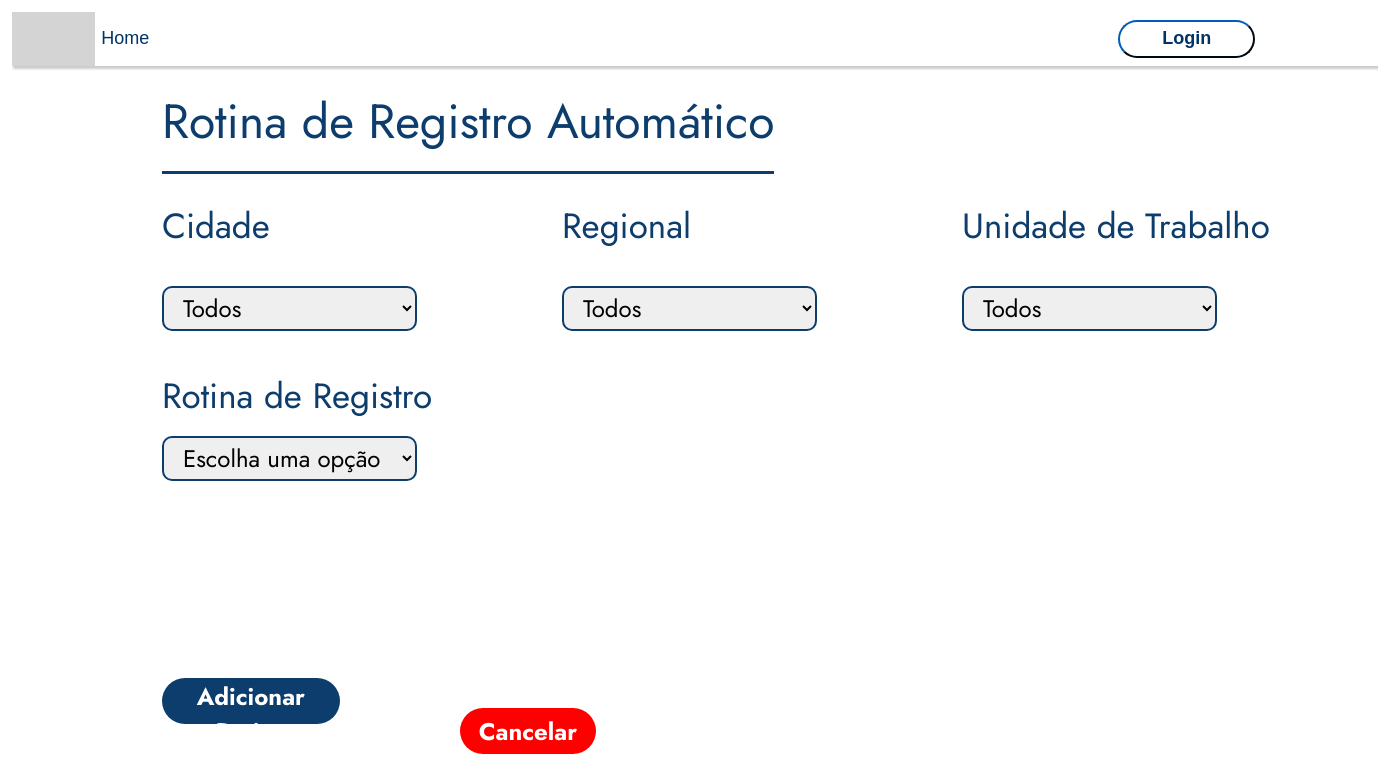
UpdateRoutine › should set an error when day value is invalid
The image size is (1378, 780).
Select "Mensalmente" in the dropdown labelled "Rotina de Registro" at [290, 458], box left=162, top=436, right=417, bottom=481
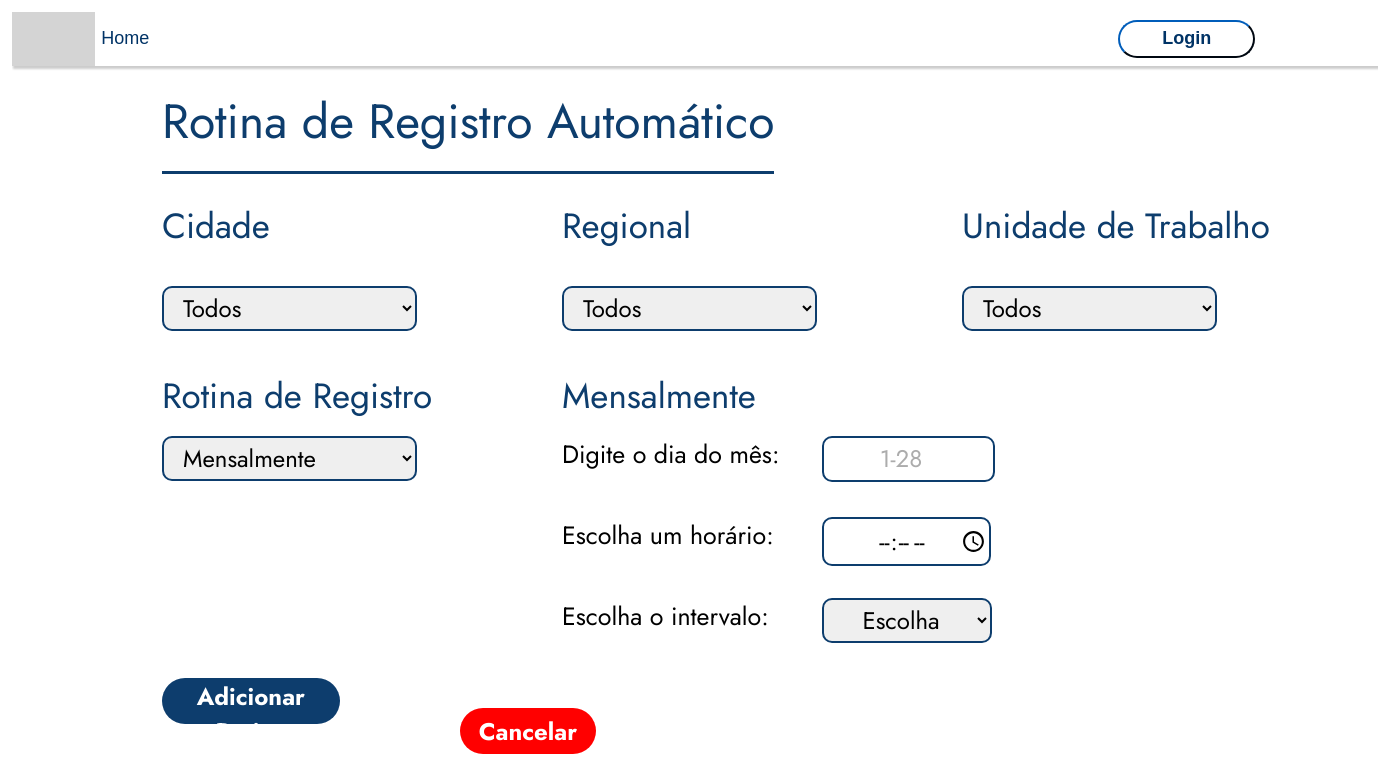
Type "29" into the number field labelled "Digite o dia do mês:" at [908, 459], box left=822, top=436, right=995, bottom=482
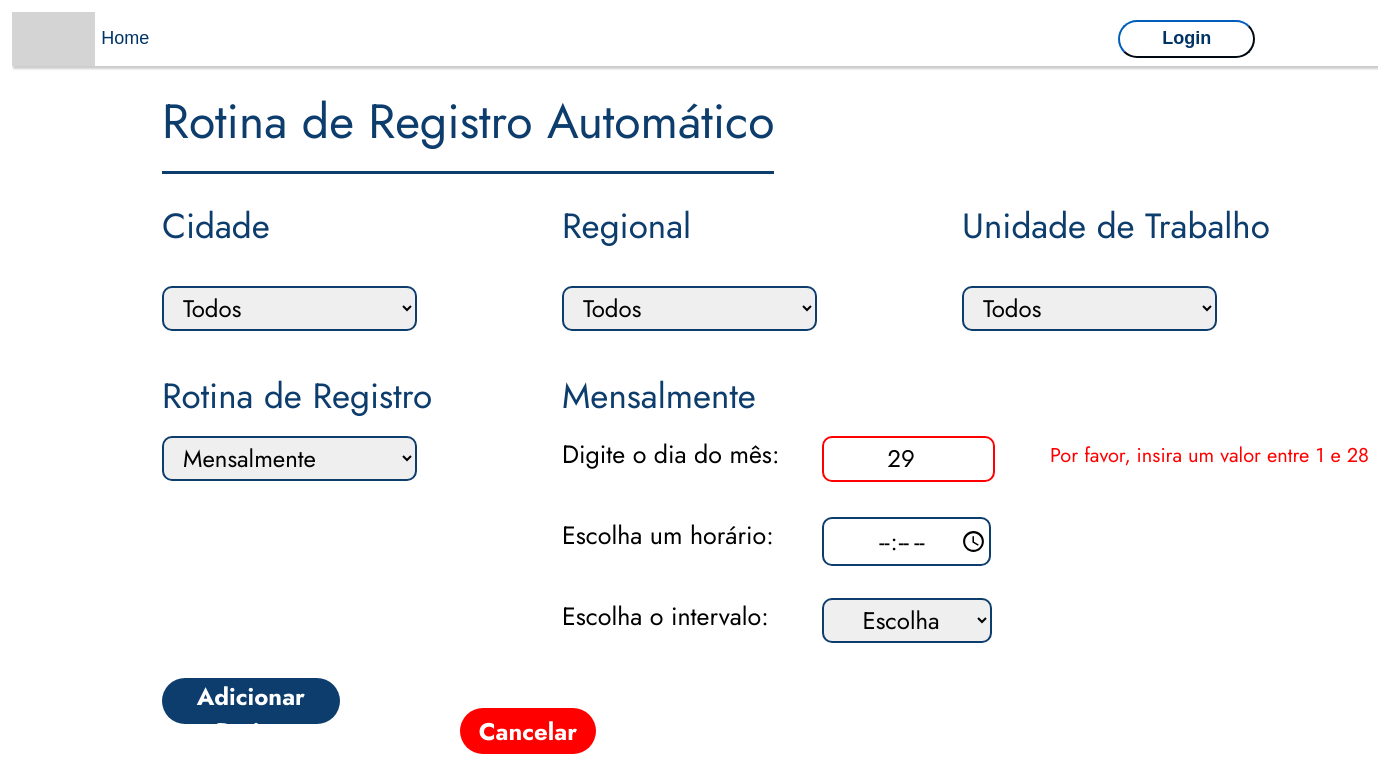
Expected: the text "Por favor, insira um valor entre 1 e 28" is shown, left=1050, top=441, right=1369, bottom=470
Replace the text in the number field labelled "Digite o dia do mês:" with "15" at [908, 459], box left=822, top=436, right=995, bottom=482
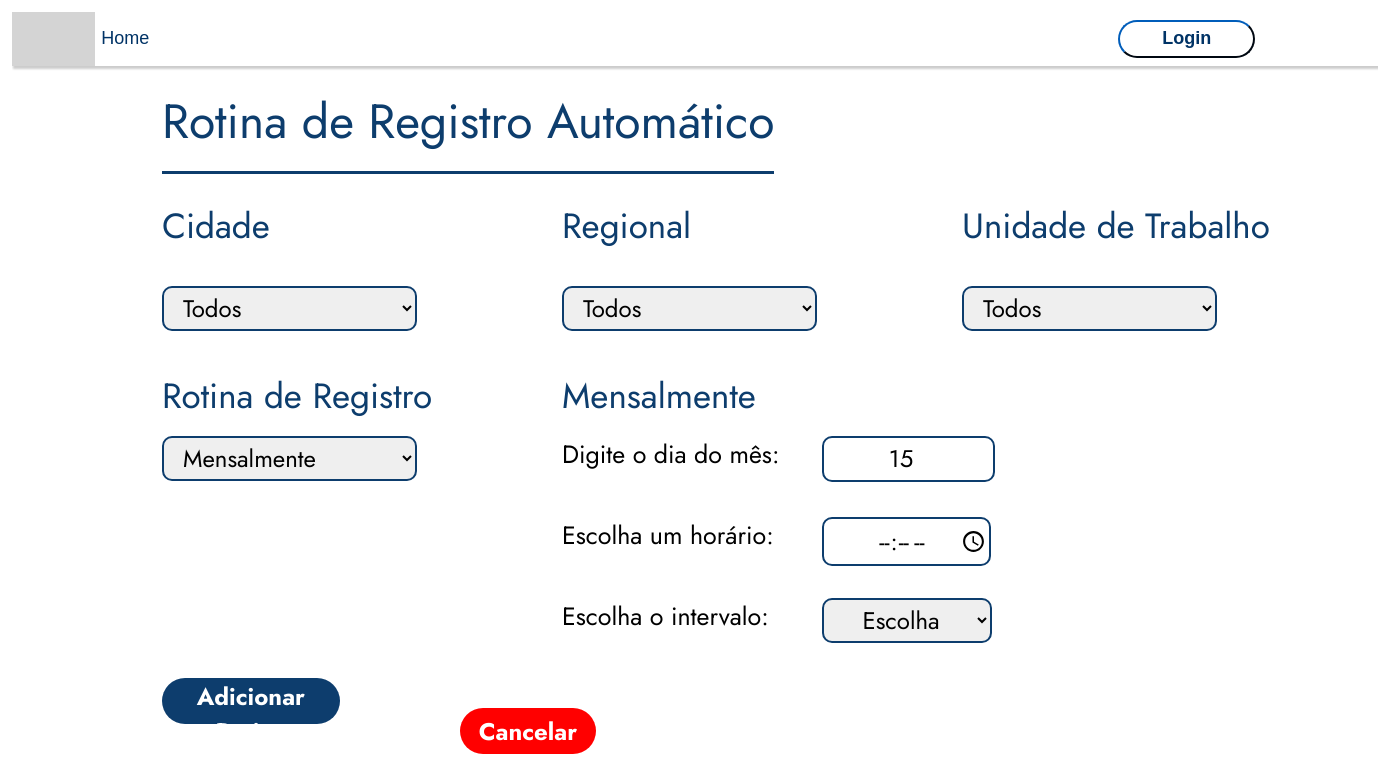
Expected: the text "Por favor, insira um valor entre 1 e 28" is gone
